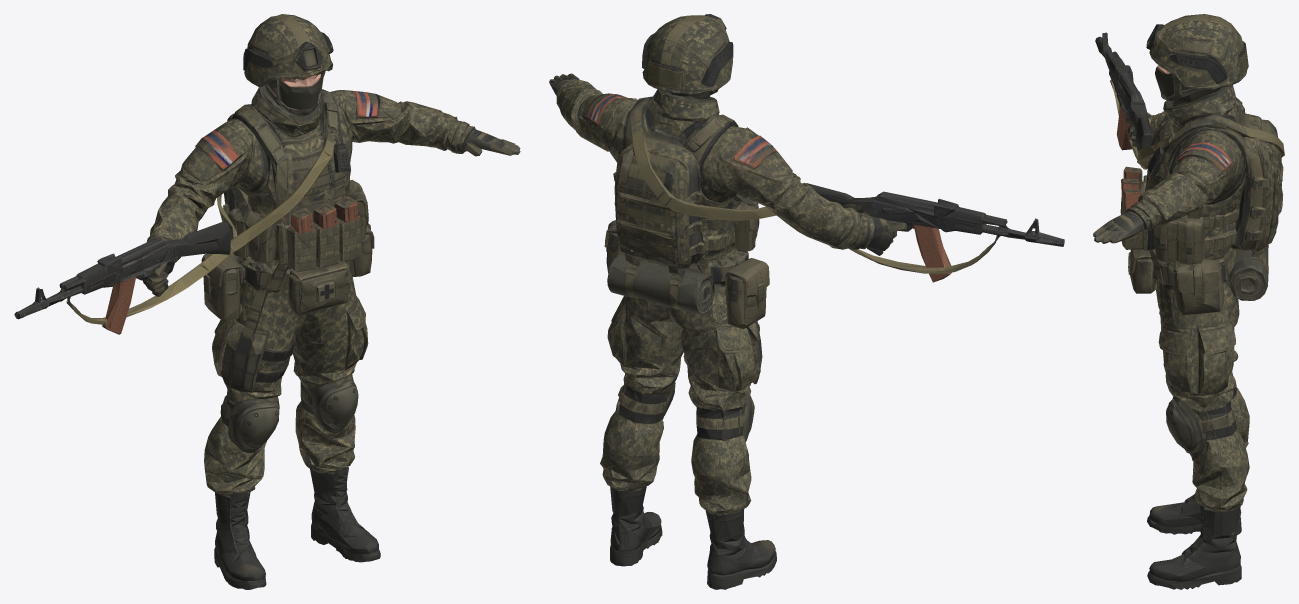
File: Meshy_AI_Russian_Soldier_3D_Reference_Sheet_20261126_texture_remesh_tri.fbx
3 renders of one model, left to right at view 1: azimuth 30°, elevation 25°; view 2: azimuth 150°, elevation 25°; view 3: azimuth 270°, elevation 25°, orthographic.
Parts seen in each view (by area): view 1: output_unwrapped; view 2: output_unwrapped; view 3: output_unwrapped.
Part boxes in pixels (left/top/right/bottom): output_unwrapped: left=14, top=14, right=520, bottom=589; output_unwrapped: left=549, top=14, right=1064, bottom=589; output_unwrapped: left=1093, top=14, right=1284, bottom=589.
Size of the model in its own units: 186 by 190 by 61.62.
1 material, 1 textured.
